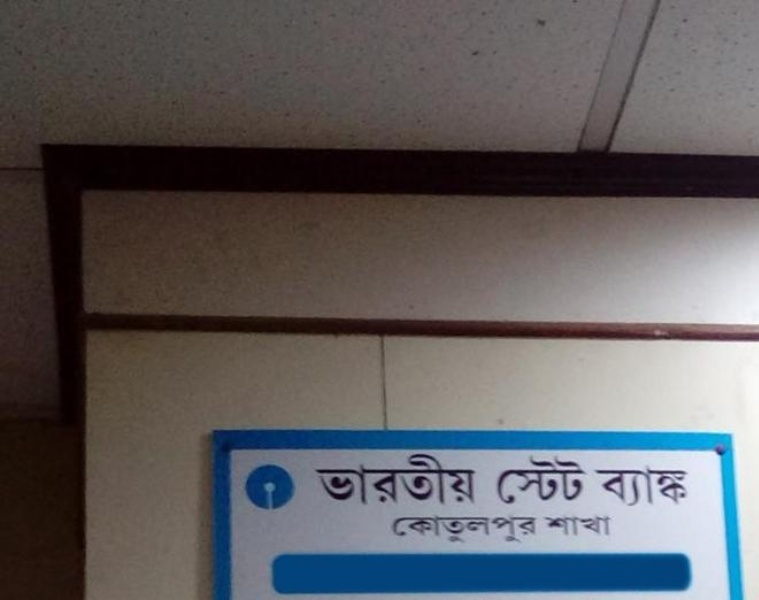text: (321, 452, 336, 505), (337, 452, 352, 505), (353, 452, 368, 505), (369, 452, 384, 505), (385, 452, 400, 505), (401, 452, 416, 505), (417, 452, 432, 505), (433, 452, 448, 505), (449, 452, 464, 505), (465, 452, 480, 505), (497, 455, 512, 506), (513, 455, 528, 506), (529, 455, 544, 506), (545, 455, 560, 506), (561, 455, 576, 506), (673, 466, 689, 509), (609, 466, 624, 509), (625, 466, 640, 509), (641, 466, 656, 509), (657, 466, 672, 509), (577, 455, 589, 506), (596, 466, 608, 509), (401, 514, 416, 544), (417, 514, 432, 544), (433, 514, 448, 544), (449, 514, 464, 544), (465, 514, 480, 544), (481, 514, 496, 544), (497, 514, 512, 544), (513, 514, 528, 544), (545, 512, 560, 538), (561, 512, 576, 538), (577, 512, 592, 538), (593, 512, 608, 538), (529, 514, 539, 544), (316, 452, 320, 505), (393, 514, 400, 544), (609, 512, 615, 538), (543, 512, 544, 538)
